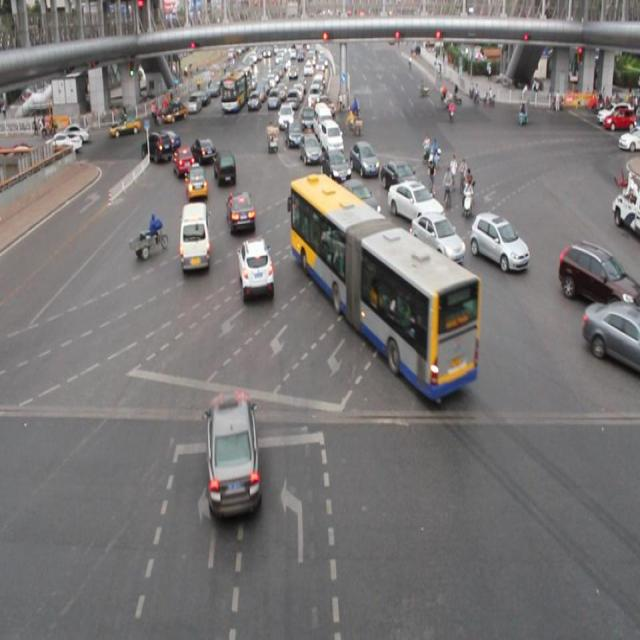car: (203, 390, 260, 519), (556, 239, 640, 309), (584, 300, 640, 368), (469, 211, 527, 269), (411, 212, 464, 262), (388, 179, 443, 223), (237, 238, 274, 299), (335, 177, 380, 220), (379, 159, 423, 195), (225, 189, 255, 233), (350, 142, 380, 180), (142, 132, 172, 164), (322, 148, 348, 183), (213, 148, 236, 186), (173, 144, 196, 180), (186, 162, 208, 199), (300, 133, 321, 164), (191, 137, 215, 164)
truck: (181, 203, 210, 272)
van: (290, 172, 476, 390)
